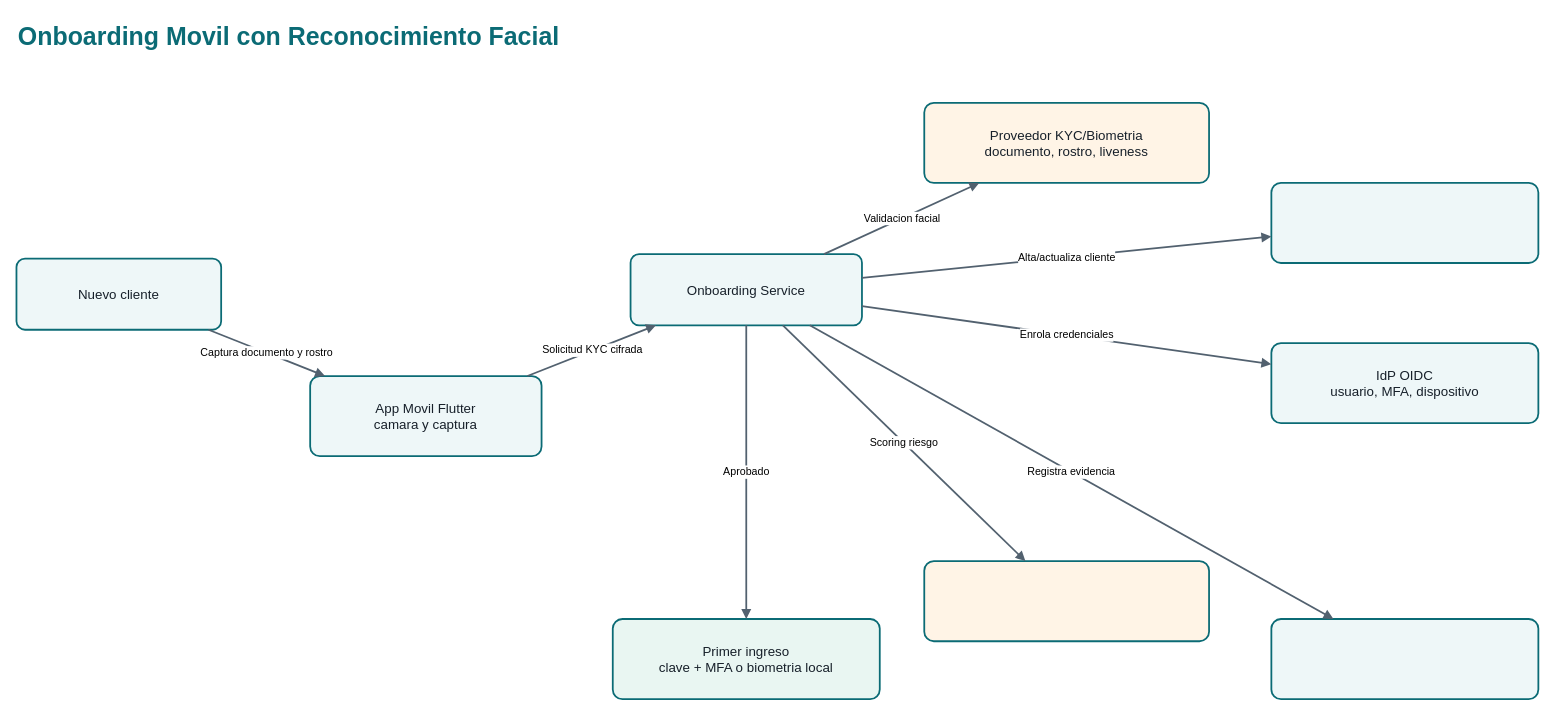
The diagram is 1554 pixels wide and 715 high, and some of its shapes have lost their labels. Here are the shapes that lost their labels. From the top down, the centre of each, then its label:
At point (1404, 222): "Core Bancario alta/actualizacion cliente".
At point (1066, 601): "Motor Antifraude listas, dispositivo, IP".
At point (1404, 659): "Auditoria evento inmutable".
